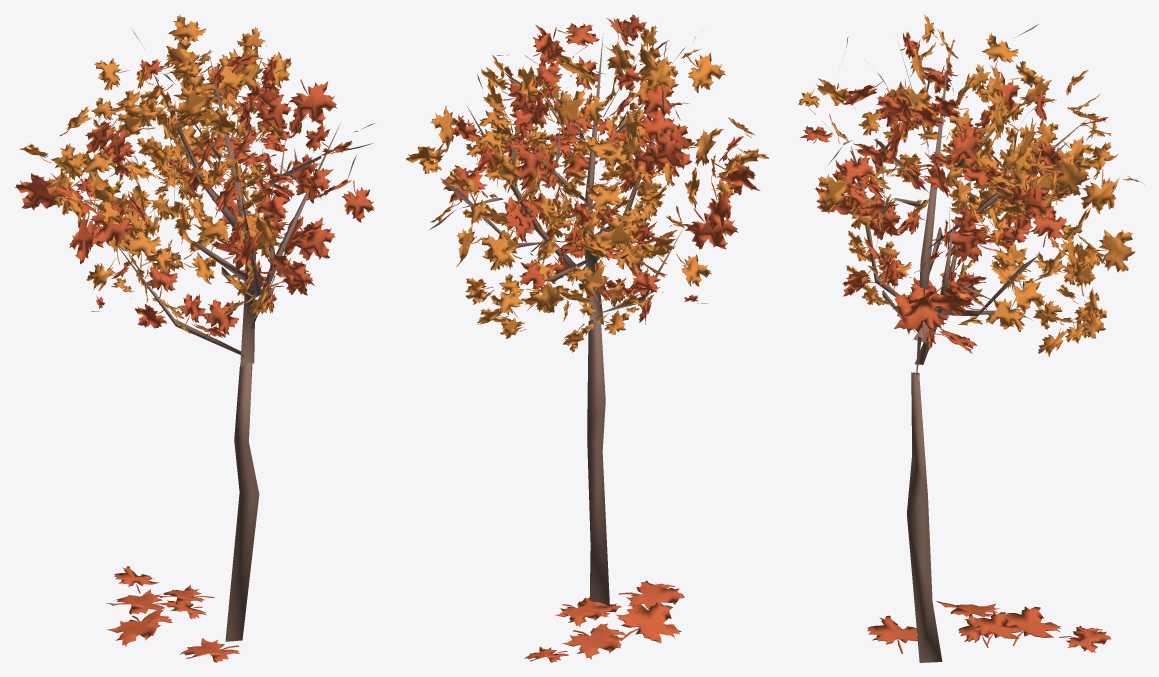
File: clen2.fbx
The picture shows the model from 3 angles, left to right: view 1: azimuth 30°, elevation 25°; view 2: azimuth 150°, elevation 25°; view 3: azimuth 270°, elevation 25°; orthographic projection. The views are drawn at different scales.
Parts seen in each view (by area): view 1: red, orange.001, orange, tree; view 2: red, orange.001, orange, tree; view 3: red, orange.001, orange, tree.
Boxes of the visible parts, x1,y1,x2,y2 form: red: [14, 49, 374, 662]; orange.001: [59, 14, 291, 311]; orange: [20, 38, 297, 333]; tree: [50, 28, 374, 641]; red: [441, 14, 760, 662]; orange.001: [406, 55, 723, 352]; orange: [430, 25, 768, 305]; tree: [429, 19, 707, 606]; red: [800, 32, 1110, 653]; orange.001: [858, 61, 1144, 356]; orange: [798, 15, 1118, 325]; tree: [809, 24, 1096, 662].
Size of the model in its own units: 53.73 by 97.25 by 49.41.
